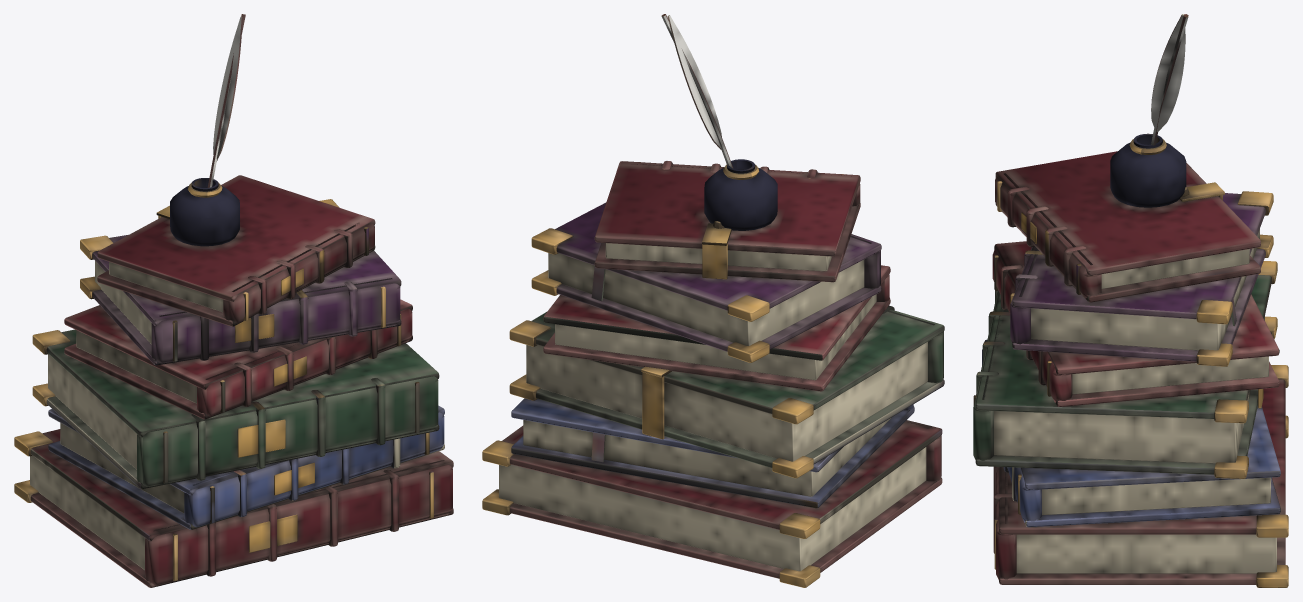
The model's file is BookStack.fbx.
The picture shows the model from 3 angles, left to right: view 1: azimuth 30°, elevation 25°; view 2: azimuth 150°, elevation 25°; view 3: azimuth 270°, elevation 25°; orthographic projection. The views are drawn at different scales.
Parts seen in each view (by area): view 1: BookStack; view 2: BookStack; view 3: BookStack.
Boxes of the visible parts, x1,y1,x2,y2 form: BookStack: [14, 14, 453, 587]; BookStack: [482, 14, 944, 587]; BookStack: [973, 14, 1288, 587].
Size of the model in its own units: 134 by 191 by 108.
